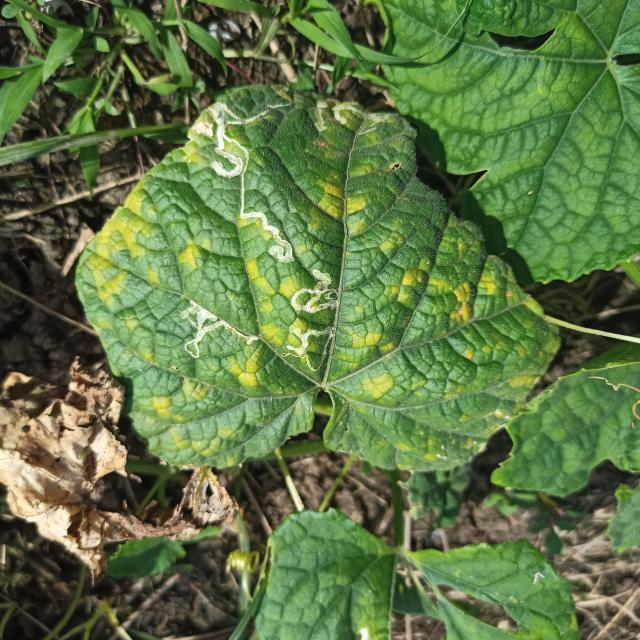disease_cucumber: (88, 86, 525, 469)
